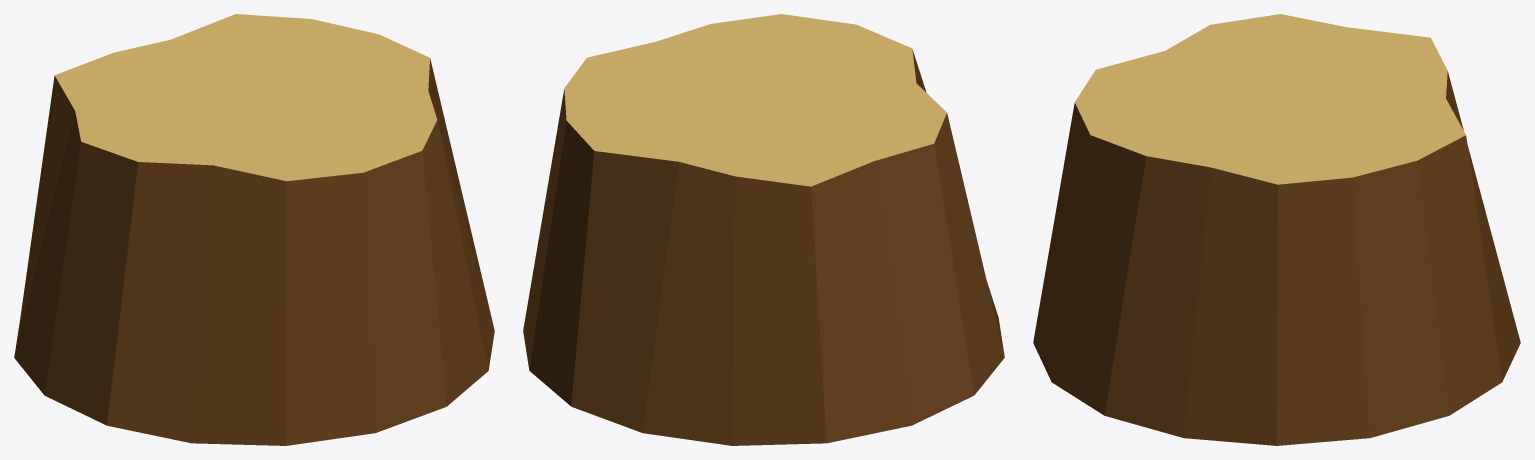
Rendered from Pieniek1.fbx.
The picture shows the model from 3 angles, left to right: view 1: azimuth 30°, elevation 25°; view 2: azimuth 150°, elevation 25°; view 3: azimuth 270°, elevation 25°; orthographic projection.
Visible parts, largest first — view 1: red02.003; view 2: red02.003; view 3: red02.003.
Boxes of the visible parts, x1=… form: red02.003: x1=14, y1=14, x2=494, y2=445; red02.003: x1=523, y1=14, x2=1004, y2=445; red02.003: x1=1033, y1=14, x2=1520, y2=445.
Size of the model in its own units: 28.09 by 15.55 by 28.09.
